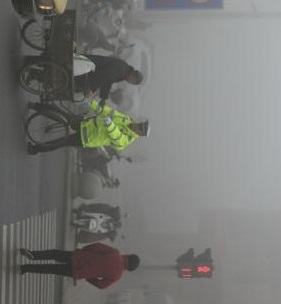person: (26, 101, 150, 158), (16, 240, 138, 289), (72, 47, 145, 99)
